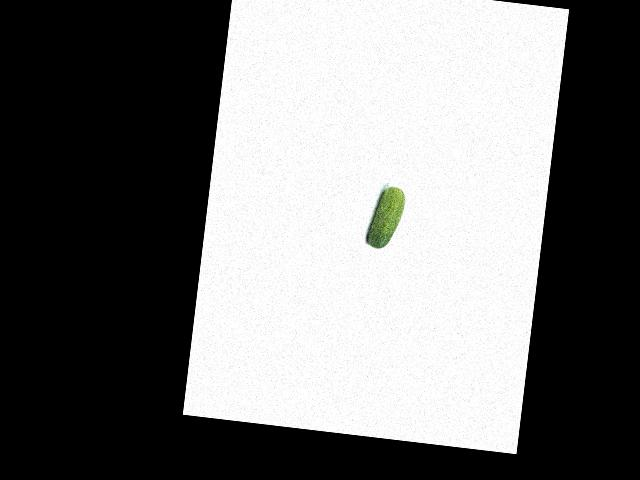cucumber: (365, 184, 406, 251)
